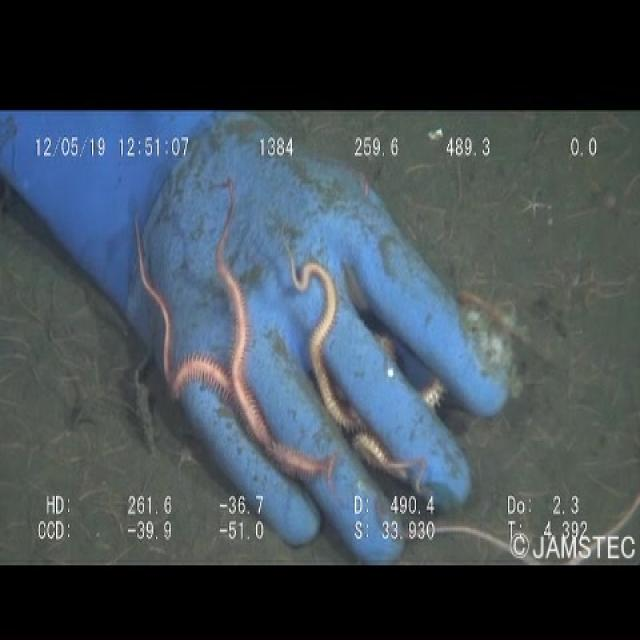plastic: (0, 110, 512, 564)
